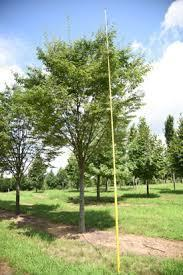tree: (12, 27, 142, 237)
